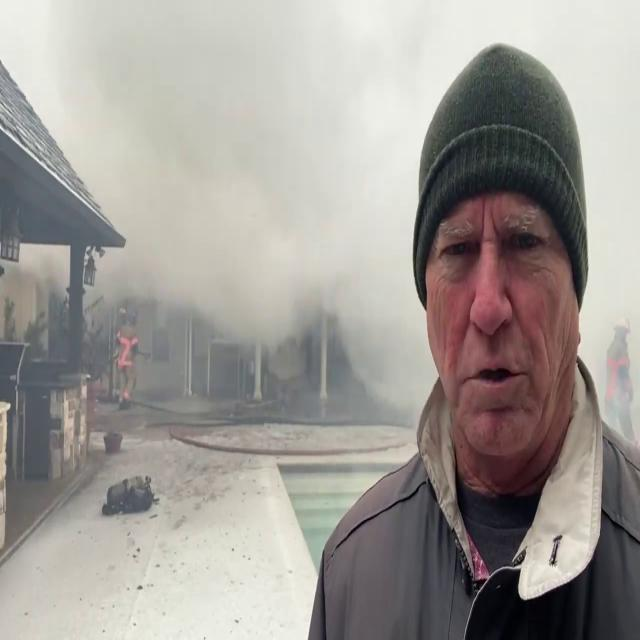Smoke: (102, 0, 442, 478)
